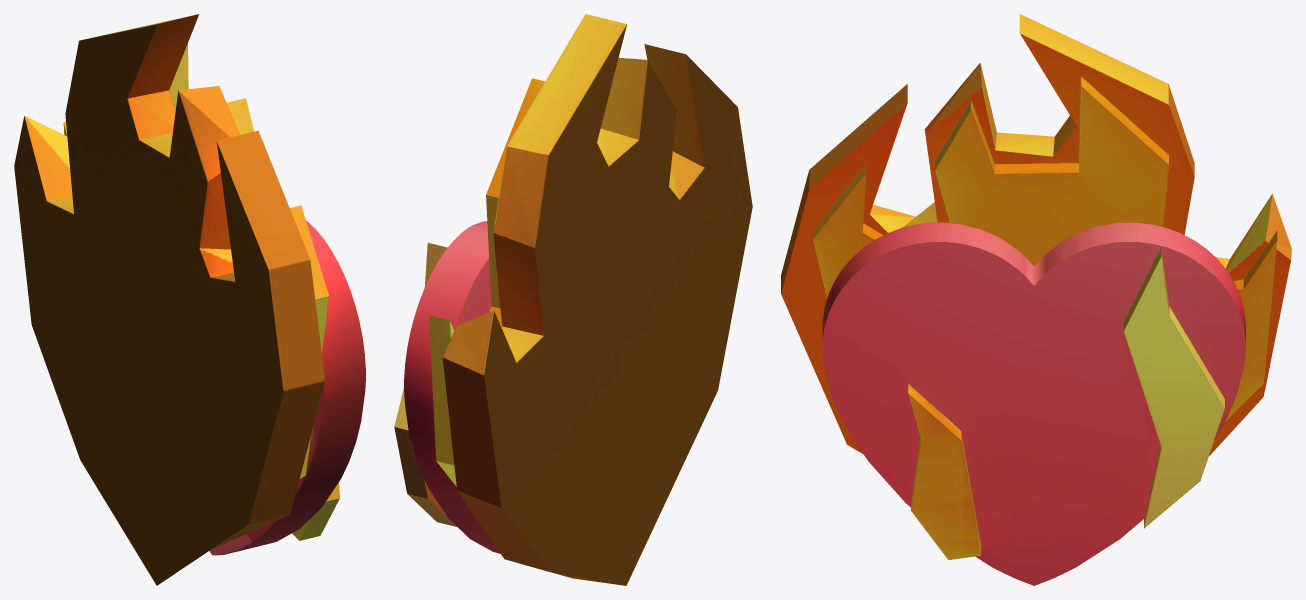
File: Emoji_fire_heart.glb
3 views of the same model, side by side, from view 1: azimuth 30°, elevation 25°; view 2: azimuth 150°, elevation 25°; view 3: azimuth 270°, elevation 25° (orthographic). The views are drawn at different scales.
Visible parts, largest first — view 1: Emoji; view 2: Emoji; view 3: Emoji.
Part boxes in pixels (x1,y1,x2,y2): Emoji: [14, 14, 365, 585]; Emoji: [394, 14, 752, 585]; Emoji: [781, 14, 1291, 585].
Size of the model in its own units: 0.189 by 0.8109 by 0.7037.
1 material, 1 textured.
